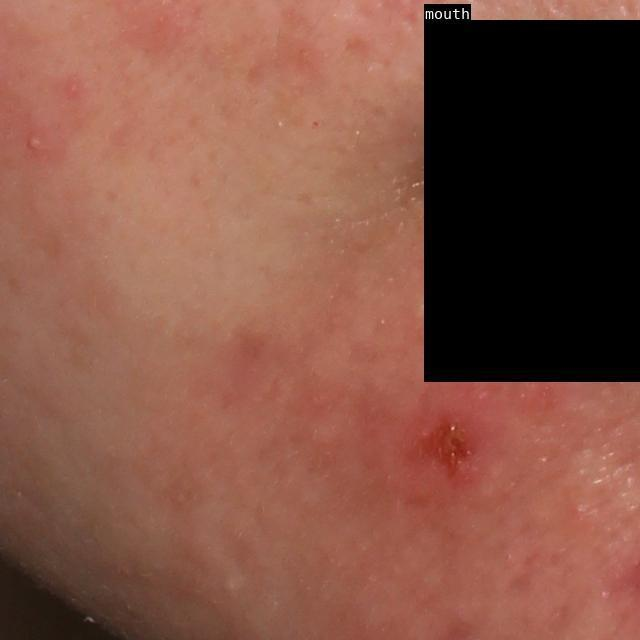papule: (399, 390, 513, 510)
pustule: (23, 130, 49, 153)
